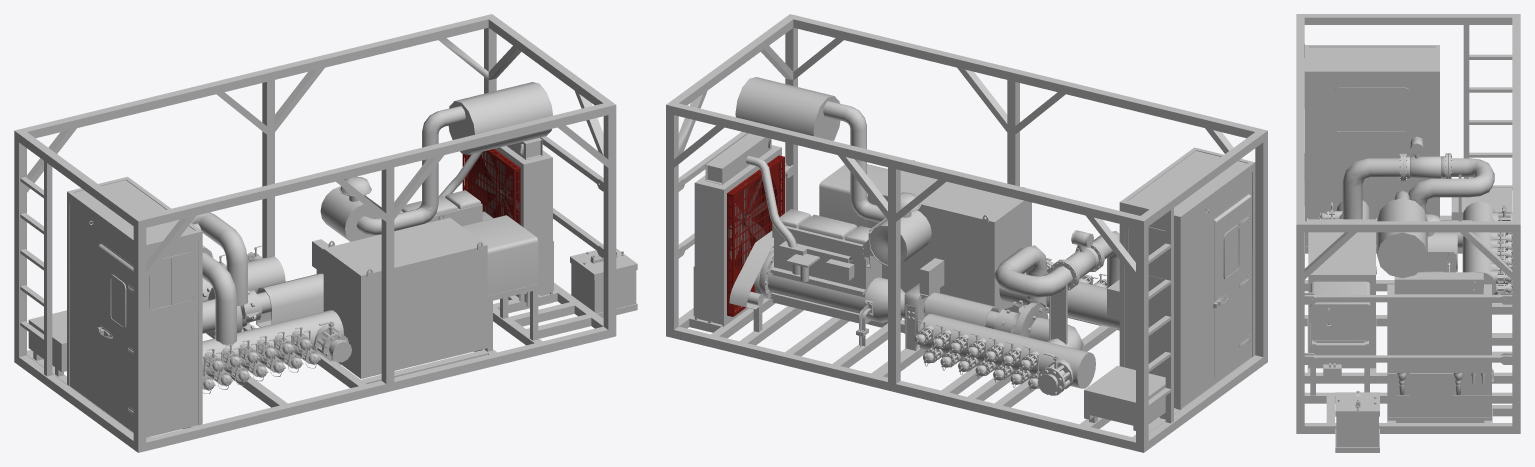
Rendered from index.gltf.
3 renders of one model, left to right at view 1: azimuth 30°, elevation 25°; view 2: azimuth 150°, elevation 25°; view 3: azimuth 270°, elevation 25°, orthographic. The views are drawn at different scales.
Parts seen in each view (by area): view 1: GongYeBeng, FengShan; view 2: GongYeBeng, FengShan, YeLun; view 3: GongYeBeng.
Boxes of the visible parts, x1,y1,x2,y2 form: GongYeBeng: [14, 14, 637, 452]; FengShan: [476, 151, 519, 218]; GongYeBeng: [666, 14, 1267, 452]; FengShan: [728, 177, 767, 263]; YeLun: [1012, 302, 1048, 337]; GongYeBeng: [1296, 14, 1520, 452].
Bounding box in the file's own units: 9.74 × 4.14 × 4.01.
